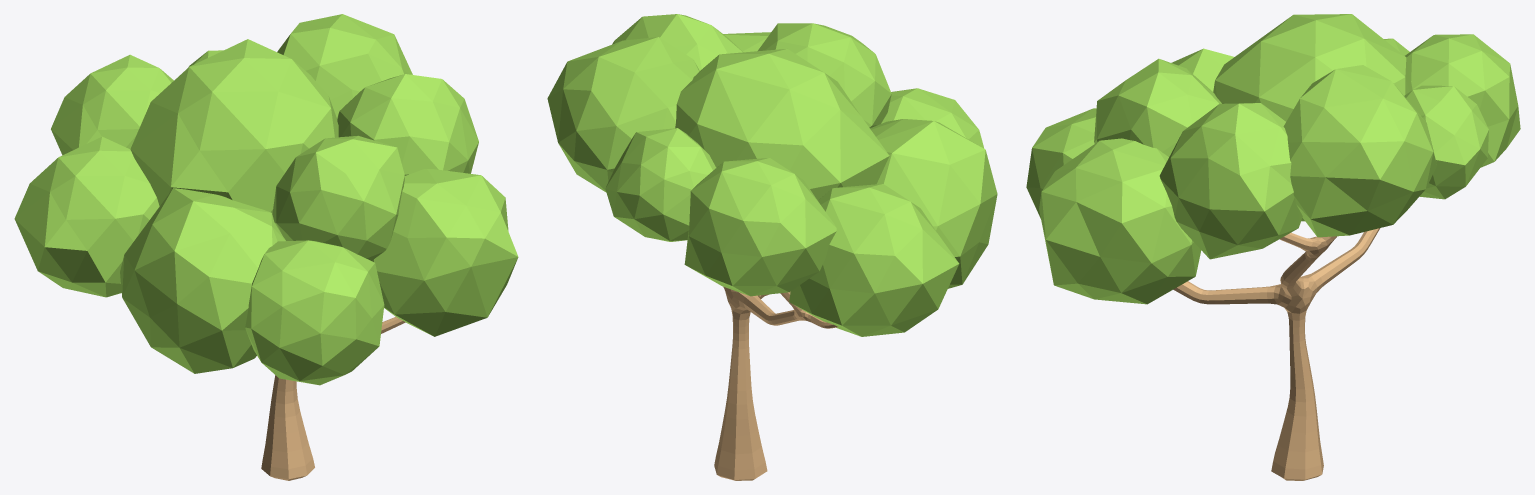
Rendered from Tree3.fbx.
3 views of the same model, side by side, from view 1: azimuth 30°, elevation 25°; view 2: azimuth 150°, elevation 25°; view 3: azimuth 270°, elevation 25° (orthographic). The views are drawn at different scales.
Visible parts, largest first — view 1: Laubbaum; view 2: Laubbaum; view 3: Laubbaum.
Part boxes in pixels (x1,y1,x2,y2): Laubbaum: (14,14,518,480); Laubbaum: (547,14,997,480); Laubbaum: (1026,14,1520,480).
Size of the model in its own units: 967 by 1003 by 1030.
